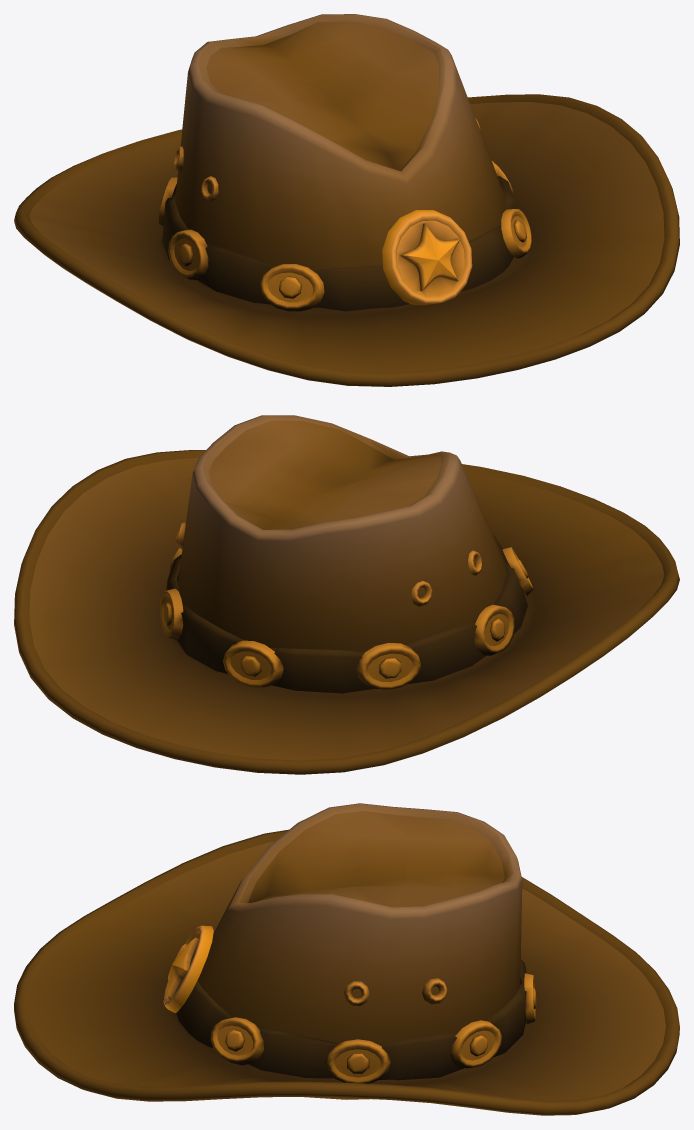
Rendered from Cap_Cowboy_Hat.gltf.
3 renders of one model, top to bottom at view 1: azimuth 30°, elevation 25°; view 2: azimuth 150°, elevation 25°; view 3: azimuth 270°, elevation 25°, orthographic. The views are drawn at different scales.
Visible parts, largest first — view 1: Cap_Cowboy_Hat; view 2: Cap_Cowboy_Hat; view 3: Cap_Cowboy_Hat.
Part boxes in pixels (x1,y1,x2,y2): Cap_Cowboy_Hat: (14, 14, 679, 386); Cap_Cowboy_Hat: (14, 415, 679, 774); Cap_Cowboy_Hat: (14, 803, 679, 1115).
Bounding box in the file's own units: 1.45 × 0.4687 × 1.53.
Materials: 2 (2 with a texture image).
